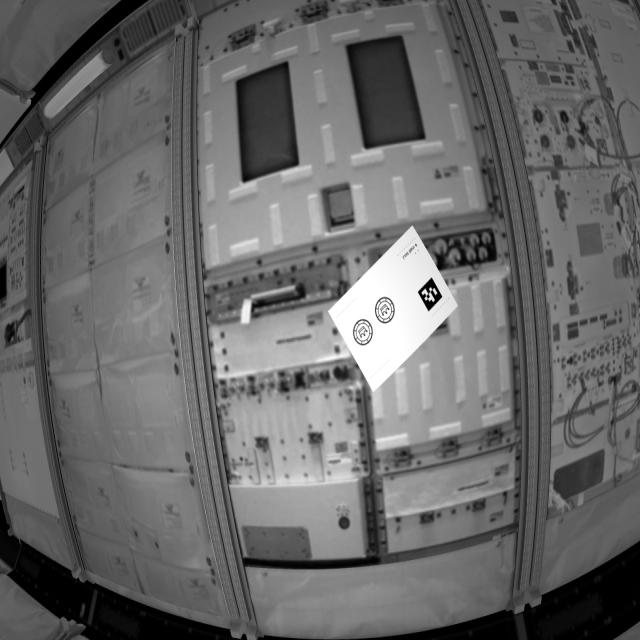coin: (374, 295, 402, 327), (353, 318, 375, 349)
